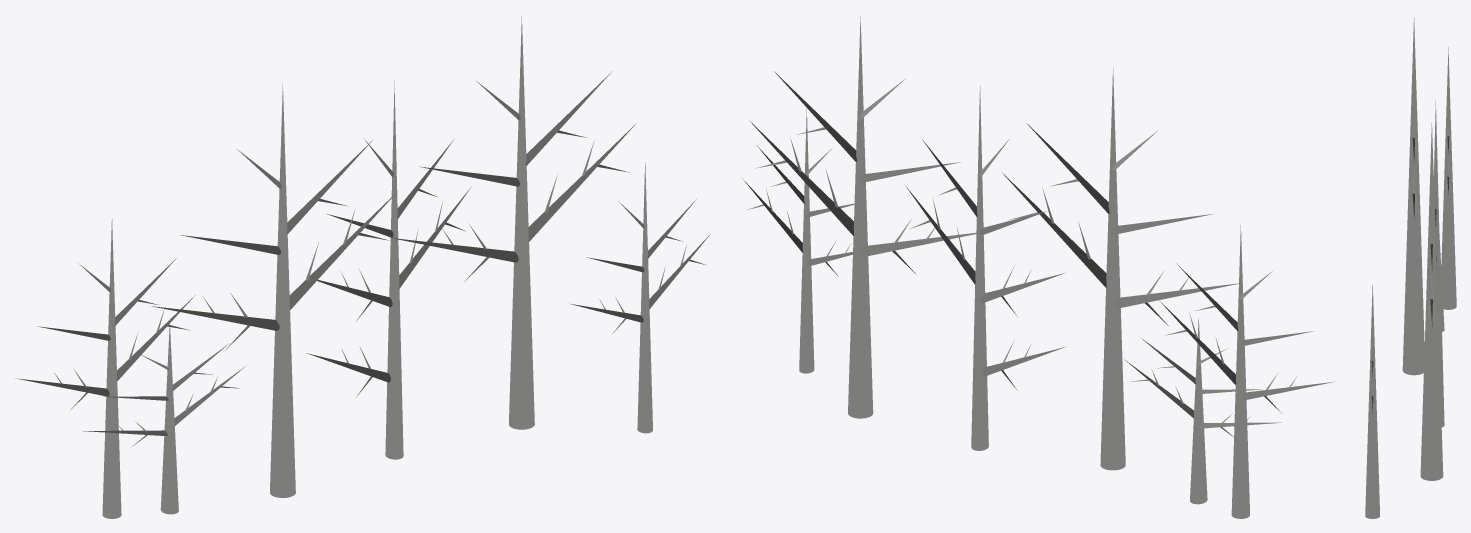
Rendered from Tree_Leaves_New_8.obj.
The picture shows the model from 3 angles, left to right: view 1: azimuth 30°, elevation 25°; view 2: azimuth 150°, elevation 25°; view 3: azimuth 270°, elevation 25°; orthographic projection. The views are drawn at different scales.
Parts seen in each view (by area): view 1: pCone1_ncl1_2, pCone1, pCone1_ncl1_5, pCone1_ncl1_4, pCone1_ncl1_3, pCone1_ncl1_1, pCone2_ncl1_2, pCone2, pCone7, pCone7_ncl1_2; view 2: pCone1, pCone1_ncl1_2, pCone1_ncl1_5, pCone1_ncl1_4, pCone1_ncl1_3, pCone1_ncl1_1, pCone2, pCone2_ncl1_2, pCone7, pCone7_ncl1_2; view 3: pCone1_ncl1_2, pCone1, pCone1_ncl1_4, pCone1_ncl1_3, pCone1_ncl1_5, pCone2_ncl1_2, pCone1_ncl1_1, pCone2.
Part boxes in pixels (<box>): pCone1_ncl1_2: <box>509,15,534,429</box>; pCone1: <box>270,84,295,497</box>; pCone1_ncl1_5: <box>385,81,403,459</box>; pCone1_ncl1_4: <box>102,219,121,518</box>; pCone1_ncl1_3: <box>637,162,652,433</box>; pCone1_ncl1_1: <box>160,321,178,514</box>; pCone2_ncl1_2: <box>528,123,636,241</box>; pCone2: <box>289,192,396,309</box>; pCone7: <box>150,306,279,330</box>; pCone7_ncl1_2: <box>389,237,518,262</box>; pCone1: <box>1100,67,1125,470</box>; pCone1_ncl1_2: <box>848,16,873,418</box>; pCone1_ncl1_5: <box>971,85,988,450</box>; pCone1_ncl1_4: <box>1231,225,1249,518</box>; pCone1_ncl1_3: <box>799,108,814,373</box>; pCone1_ncl1_1: <box>1190,318,1207,504</box>; pCone2: <box>1002,173,1106,287</box>; pCone2_ncl1_2: <box>749,120,853,235</box>; pCone7: <box>1113,283,1238,308</box>; pCone7_ncl1_2: <box>861,232,976,256</box>; pCone1_ncl1_2: <box>1420,122,1443,480</box>; pCone1: <box>1402,17,1424,375</box>; pCone1_ncl1_4: <box>1441,47,1456,309</box>; pCone1_ncl1_3: <box>1365,284,1379,518</box>; pCone1_ncl1_5: <box>1433,101,1444,427</box>; pCone2_ncl1_2: <box>1427,287,1436,321</box>; pCone1_ncl1_1: <box>1439,234,1444,331</box>; pCone2: <box>1409,182,1418,215</box>.
Size of the model in its own units: 420 by 253 by 58.53.
Materials: 1 (1 with a texture image).
